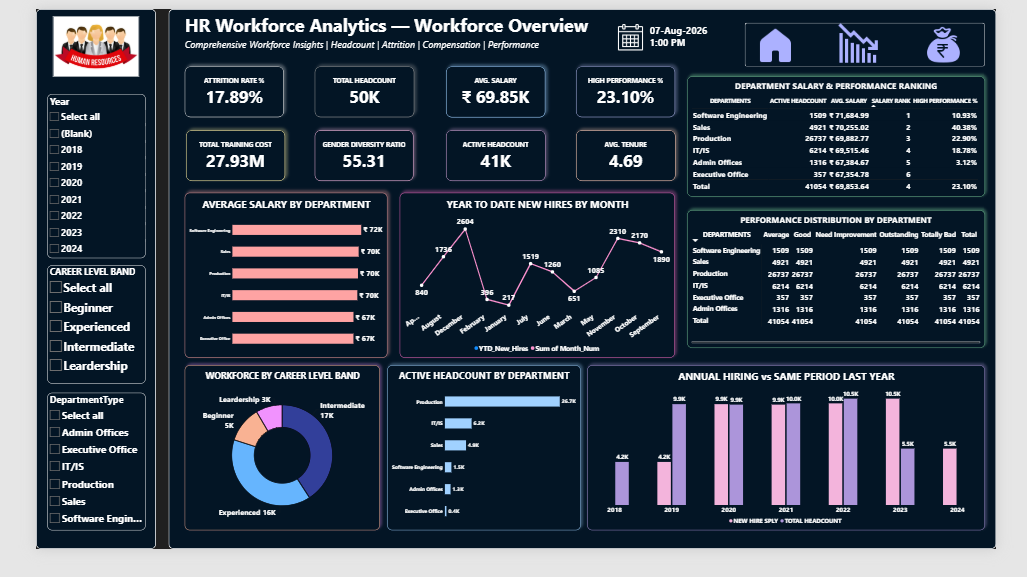

The dashboard page shown, as its layout file describes it:
{"tool":"powerbi","page":{"name":"Workforce Overview","canvas":[3840,2160],"ordinal":1},"visuals":[{"type":"shape","box":[528.7,0,3311.4,2160],"z":0},{"type":"shape","box":[0,0,480,2160],"z":1000},{"type":"cardVisual","fields":{"Data":["All_Measures.TOTAL HEADCOUNT"]},"box":[1116.2,228.3,398.3,203.3],"z":2000},{"type":"cardVisual","fields":{"Data":["All_Measures.ACTIVE HEADCOUNT"]},"box":[1637.5,486.7,398.3,203.3],"z":3000},{"type":"cardVisual","fields":{"Data":["All_Measures.ATTRITION RATE %"]},"box":[596.2,227.5,396.7,203.3],"z":4000},{"type":"cardVisual","fields":{"Data":["All_Measures.AVG. SALARY"]},"box":[1637.9,228.3,397.5,203.8],"z":5000},{"type":"cardVisual","fields":{"Data":["All_Measures.TOTAL TRAINING COSTX"]},"box":[600,486.7,396.7,203.3],"z":6000},{"type":"cardVisual","fields":{"Data":["All_Measures.AVG. TENURE"]},"box":[2158.8,486.2,398.3,203.3],"z":7000},{"type":"cardVisual","fields":{"Data":["All_Measures.HIGH PERFORMANCE %"]},"box":[2158.8,228.8,396.7,203.3],"z":8000},{"type":"cardVisual","fields":{"Data":["All_Measures.GENDER DIVERSITY RATIO"]},"box":[1115,485,395,203.3],"z":9000},{"type":"clusteredBarChart","title":"ACTIVE HEADCOUNT BY DEPARTMENT","fields":{"Y":["All_Measures.ACTIVE HEADCOUNT"],"Category":["EmployeeMaster.DepartmentType"]},"box":[1406.7,1426.7,773.3,660],"z":10000},{"type":"clusteredBarChart","title":"AVERAGE SALARY BY DEPARTMENT","fields":{"Y":["All_Measures.AVG. SALARY"],"Category":["EmployeeMaster.DepartmentType"]},"box":[596.7,736.7,810,660],"z":11000},{"type":"clusteredColumnChart","title":"ANNUAL HIRING vs SAME PERIOD LAST YEAR","fields":{"Y":["All_Measures.TOTAL HEADCOUNT","All_Measures.NEW HIRE SPLY"],"Category":["DimDate.Year"]},"box":[2206.7,1426.7,1590,660],"z":12000},{"type":"lineChart","title":"YEAR TO DATE NEW HIRES BY MONTH","fields":{"Y":["All_Measures.YTD_New_Hires"],"Category":["DimDate.Month_Name"]},"box":[1453.3,736.7,1100,660],"z":13000},{"type":"donutChart","title":"WORKFORCE BY CAREER LEVEL BAND","fields":{"Category":["EmployeeMaster.CAREER LEVEL BAND"],"Y":["All_Measures.ACTIVE HEADCOUNT"]},"box":[596.7,1426.7,780,660],"z":14000},{"type":"pivotTable","title":"PERFORMANCE DISTRIBUTION BY DEPARTMENT","fields":{"Rows":["EmployeeMaster.DepartmentType"],"Columns":["Performance.PERFORMANCE_LABEL"],"Values":["All_Measures.ACTIVE HEADCOUNT"]},"box":[2606.7,805,1190,550],"z":15000},{"type":"tableEx","title":"DEPARTMENT SALARY & PERFORMANCE RANKING ","fields":{"Values":["EmployeeMaster.DepartmentType","All_Measures.ACTIVE HEADCOUNT","All_Measures.AVG. SALARY","All_Measures.SALARY RANK DEPT.","All_Measures.HIGH PERFORMANCE %"]},"box":[2607.1,270,1190,480],"z":16000},{"type":"slicer","fields":{"Values":["DimDate.Year"]},"box":[43.3,340,393.3,656.7],"z":17000},{"type":"slicer","fields":{"Values":["EmployeeMaster.DepartmentType"]},"box":[43.3,1536.7,393.3,550],"z":18000},{"type":"slicer","fields":{"Values":["EmployeeMaster.CAREER LEVEL BAND"]},"box":[43.3,1026.7,393.3,473.3],"z":19000},{"type":"textbox","box":[596.7,16.7,1650,136.7],"z":20000},{"type":"textbox","box":[596.7,116.7,1476.7,66.7],"z":21000},{"type":"image","box":[63.3,30,350,240],"z":22000},{"type":"image","box":[2319,62,115.8,110],"z":23000},{"type":"textbox","box":[2455,62.1,242.9,102.1],"z":24000},{"type":"shape","box":[2835,55,960,175],"z":25000},{"type":"image","box":[2850,65,215,165],"z":26000},{"type":"image","box":[3182.5,55,205,160],"z":27000},{"type":"image","box":[3505.5,65.5,250,155],"z":28000}]}

Visuals, with their boxes in screenshot pixels (x1, y1, x2, y2), scaled from the page's 3840x2160 canvas onto the 1027x577 screenshot:
shape: (x1=141, y1=0, x2=1026, y2=576)
shape: (x1=0, y1=0, x2=128, y2=576)
cardVisual - All_Measures.TOTAL HEADCOUNT: (x1=299, y1=61, x2=405, y2=115)
cardVisual - All_Measures.ACTIVE HEADCOUNT: (x1=438, y1=130, x2=544, y2=184)
cardVisual - All_Measures.ATTRITION RATE %: (x1=159, y1=61, x2=266, y2=115)
cardVisual - All_Measures.AVG. SALARY: (x1=438, y1=61, x2=544, y2=115)
cardVisual - All_Measures.TOTAL TRAINING COSTX: (x1=160, y1=130, x2=267, y2=184)
cardVisual - All_Measures.AVG. TENURE: (x1=577, y1=130, x2=684, y2=184)
cardVisual - All_Measures.HIGH PERFORMANCE %: (x1=577, y1=61, x2=683, y2=115)
cardVisual - All_Measures.GENDER DIVERSITY RATIO: (x1=298, y1=130, x2=404, y2=184)
"ACTIVE HEADCOUNT BY DEPARTMENT" clusteredBarChart: (x1=376, y1=381, x2=583, y2=557)
"AVERAGE SALARY BY DEPARTMENT" clusteredBarChart: (x1=160, y1=197, x2=376, y2=373)
"ANNUAL HIRING vs SAME PERIOD LAST YEAR" clusteredColumnChart: (x1=590, y1=381, x2=1015, y2=557)
"YEAR TO DATE NEW HIRES BY MONTH" lineChart: (x1=389, y1=197, x2=683, y2=373)
"WORKFORCE BY CAREER LEVEL BAND" donutChart: (x1=160, y1=381, x2=368, y2=557)
"PERFORMANCE DISTRIBUTION BY DEPARTMENT" pivotTable: (x1=697, y1=215, x2=1015, y2=362)
"DEPARTMENT SALARY & PERFORMANCE RANKING " tableEx: (x1=697, y1=72, x2=1016, y2=200)
slicer - DimDate.Year: (x1=12, y1=91, x2=117, y2=266)
slicer - EmployeeMaster.DepartmentType: (x1=12, y1=410, x2=117, y2=557)
slicer - EmployeeMaster.CAREER LEVEL BAND: (x1=12, y1=274, x2=117, y2=401)
textbox: (x1=160, y1=4, x2=601, y2=41)
textbox: (x1=160, y1=31, x2=555, y2=49)
image: (x1=17, y1=8, x2=111, y2=72)
image: (x1=620, y1=17, x2=651, y2=46)
textbox: (x1=657, y1=17, x2=722, y2=44)
shape: (x1=758, y1=15, x2=1015, y2=61)
image: (x1=762, y1=17, x2=820, y2=61)
image: (x1=851, y1=15, x2=906, y2=57)
image: (x1=938, y1=17, x2=1004, y2=59)
